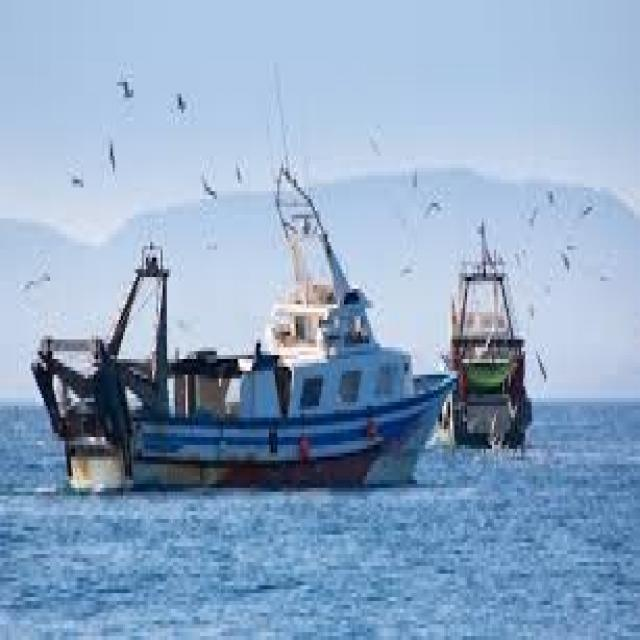Ship: (30, 189, 474, 501), (439, 208, 556, 462)
